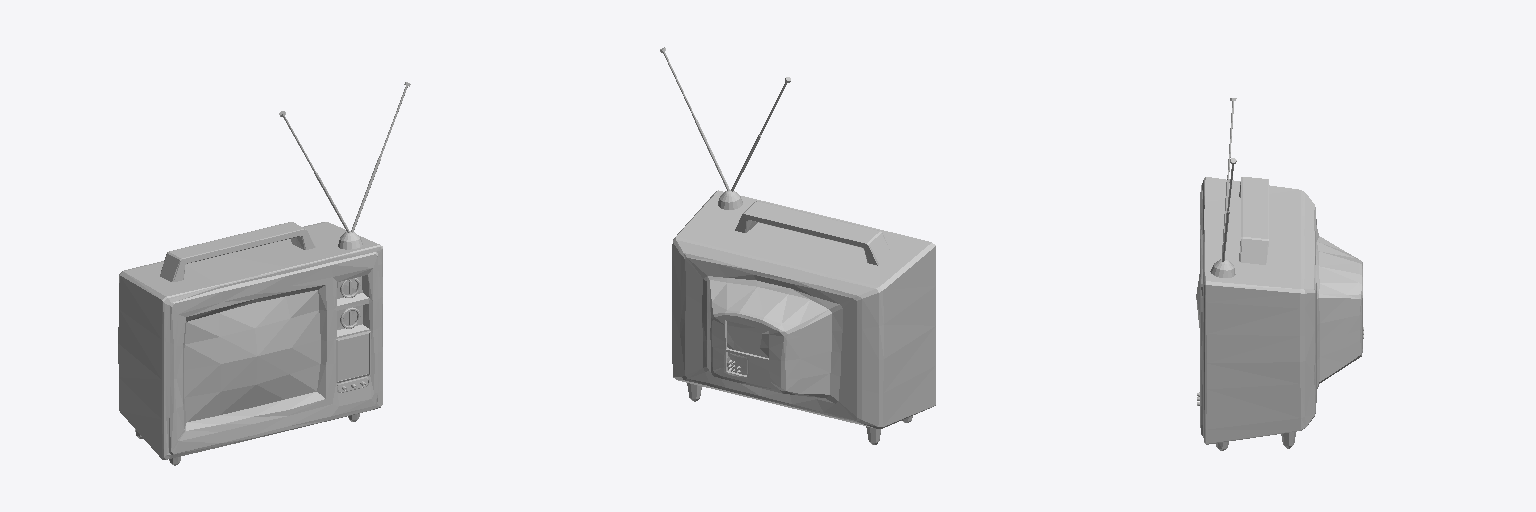
The model's file is CRT TV.obj.
The picture shows the model from 3 angles: view 1: azimuth 30°, elevation 25°; view 2: azimuth 150°, elevation 25°; view 3: azimuth 270°, elevation 25°; orthographic projection.
Parts seen in each view (by area): view 1: CRT_TV; view 2: CRT_TV; view 3: CRT_TV.
Boxes of the visible parts, box(x1,y1,x2,y2) form: CRT_TV: box(118, 82, 410, 465); CRT_TV: box(660, 47, 935, 444); CRT_TV: box(1196, 98, 1363, 450).
Bounding box in the file's own units: 0.362 × 0.4236 × 0.2002.